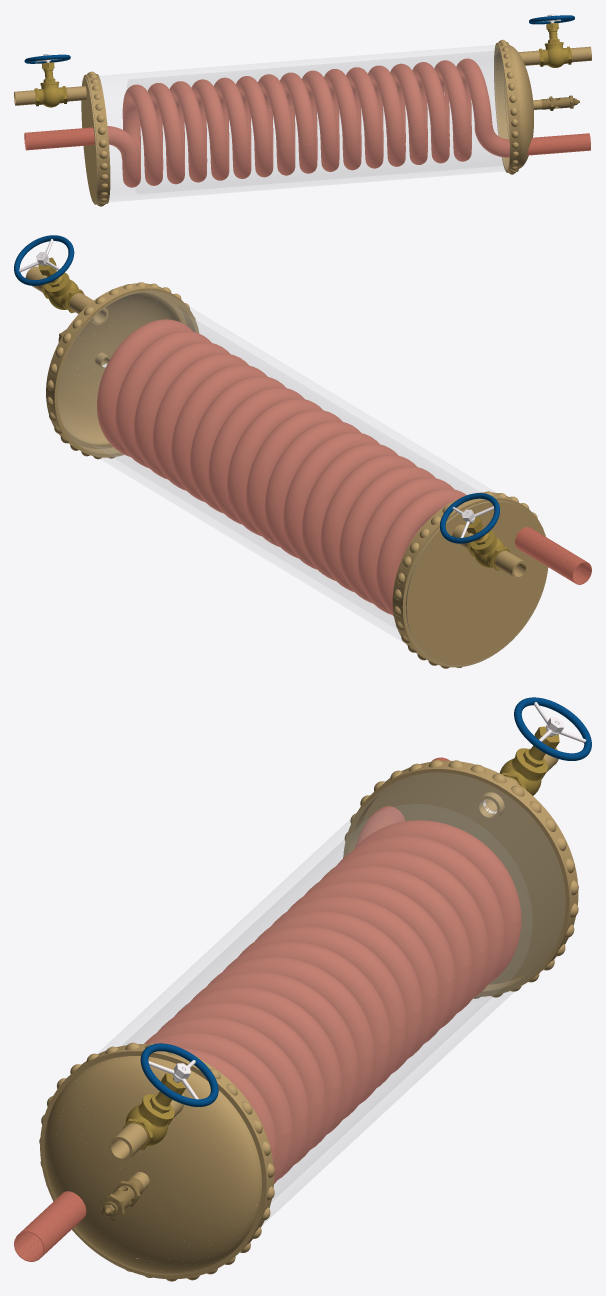
Rendered from condenser.glb.
The picture shows the model from 3 angles, top to bottom: view 1: azimuth 30°, elevation 25°; view 2: azimuth 150°, elevation 25°; view 3: azimuth 270°, elevation 25°; orthographic projection. The views are drawn at different scales.
Visible parts, largest first — view 1: Object_31, Object_52, Object_5, Object_19, Object_23, Object_61; view 2: Object_31, Object_52, Object_5, Object_19, Object_23, Object_21; view 3: Object_31, Object_52, Object_5, Object_19, Object_23, Object_21, Object_61.
Part boxes in pixels (box(x1,y1,x2,y2)): Object_31: box(85, 45, 509, 202); Object_52: box(24, 58, 590, 187); Object_5: box(14, 39, 591, 206); Object_19: box(34, 23, 571, 107); Object_23: box(24, 15, 574, 63); Object_61: box(541, 95, 579, 110); Object_31: box(58, 291, 494, 665); Object_52: box(97, 319, 591, 616); Object_5: box(25, 266, 548, 668); Object_19: box(38, 257, 510, 570); Object_23: box(14, 235, 499, 543); Object_21: box(19, 239, 494, 537); Object_31: box(98, 773, 565, 1222); Object_52: box(14, 757, 521, 1261); Object_5: box(39, 748, 578, 1281); Object_19: box(122, 726, 559, 1150); Object_23: box(140, 697, 591, 1106); Object_21: box(148, 702, 586, 1099); Object_61: box(100, 1177, 143, 1220).
Size of the model in its own units: 3.63 by 1.1 by 2.
Materials: 10 (1 with a texture image).
